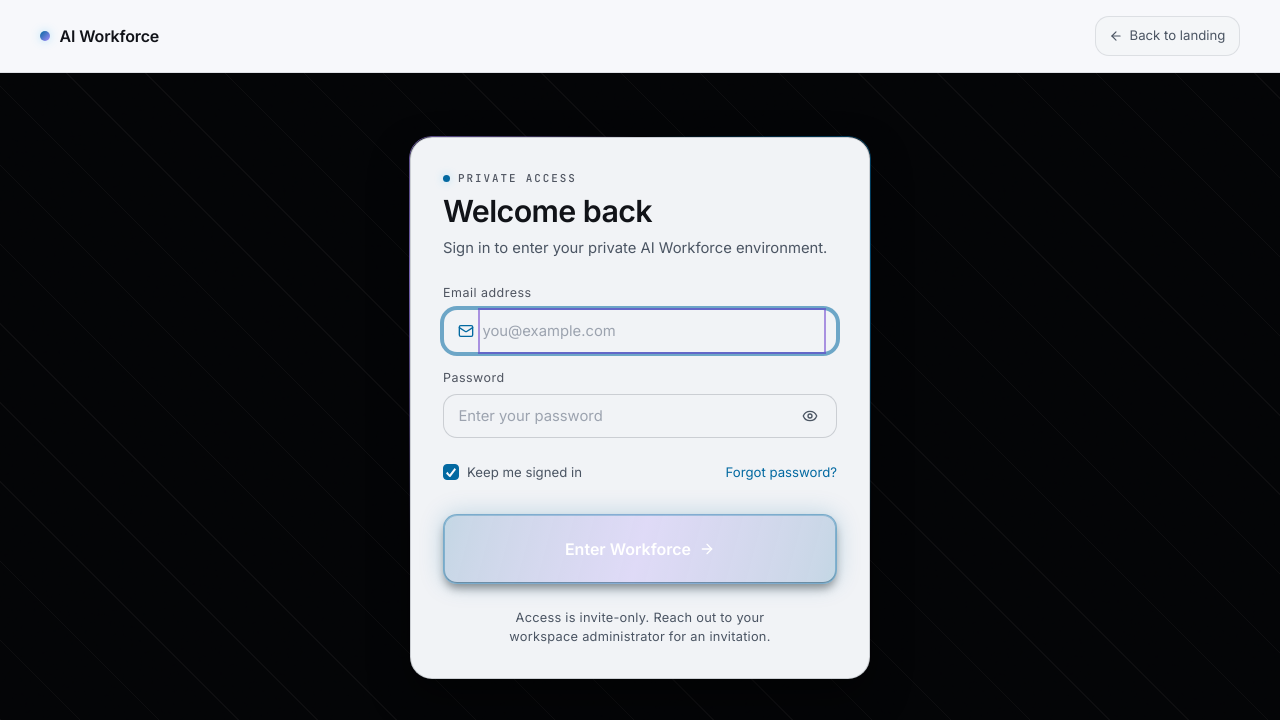
Scenario: Login › shows a safe, generic message on failure and never the raw provider error
This screenshot has width=1280, height=720.
Step 1. Type "tim@example.com" into the field labelled "Email address" → (652, 331), box x1=482 y1=312 x2=822 y2=350
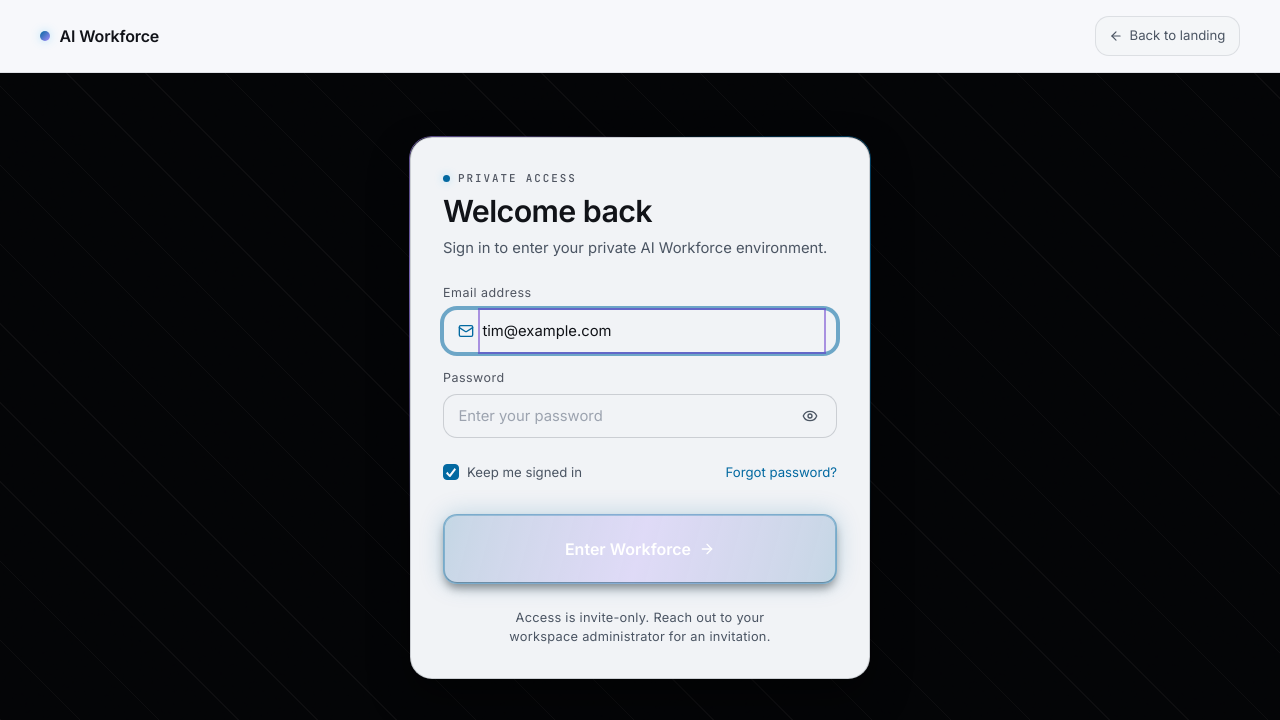
Step 2. Type "wrong" into the password field labelled "Password" → (624, 416), box x1=458 y1=397 x2=790 y2=436
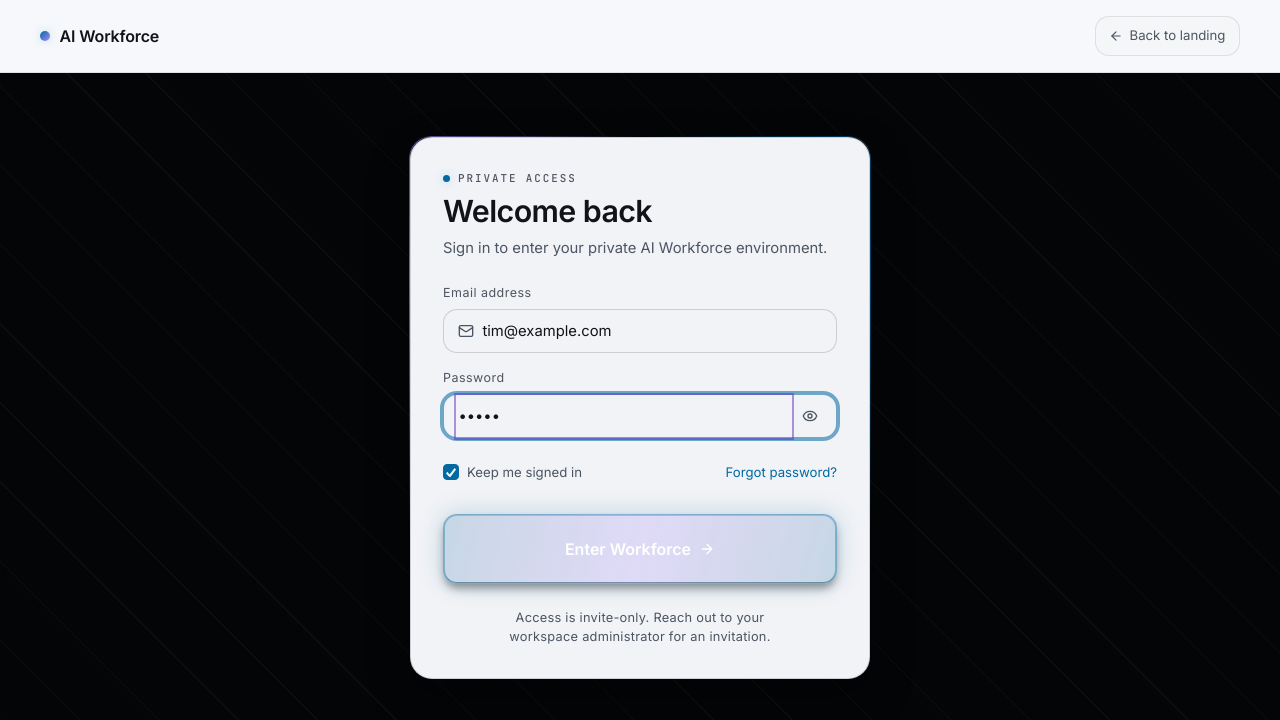
Step 3. Click the button "Enter Workforce" → click(640, 549), box x1=443 y1=514 x2=837 y2=584
(page scrolled)
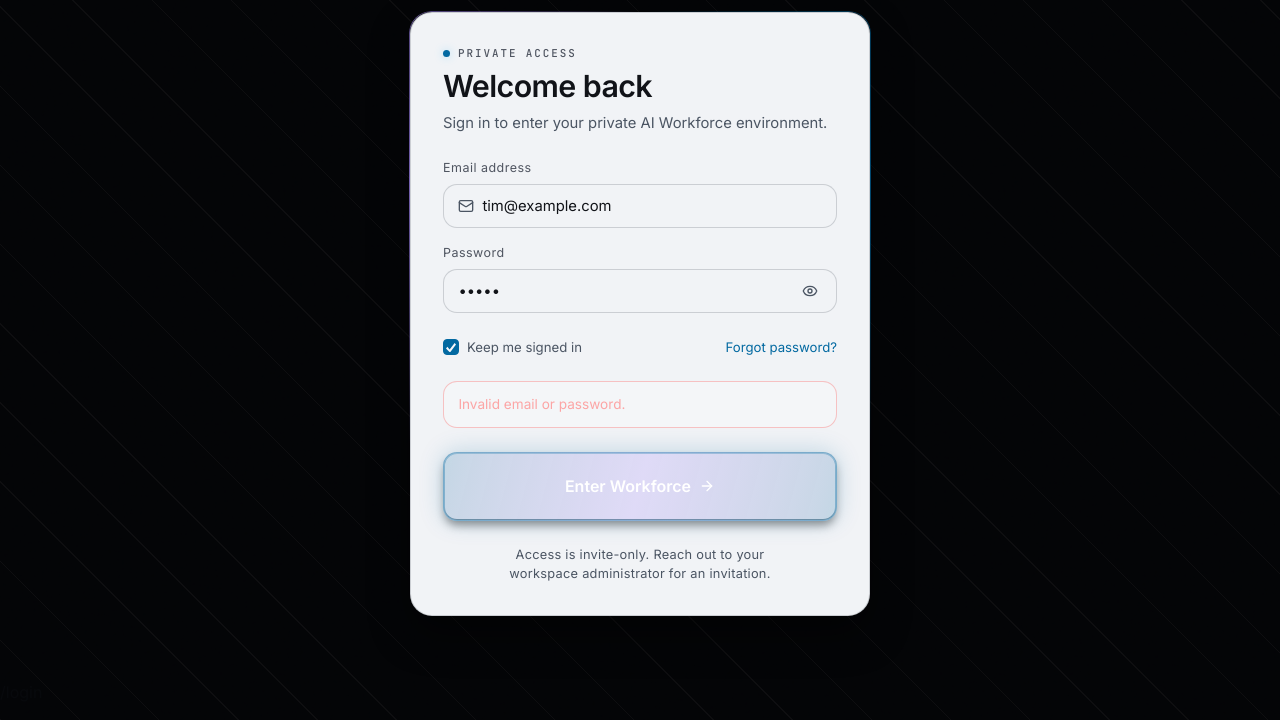
Now the message reads "Invalid email or password.", box x1=458 y1=396 x2=625 y2=412
